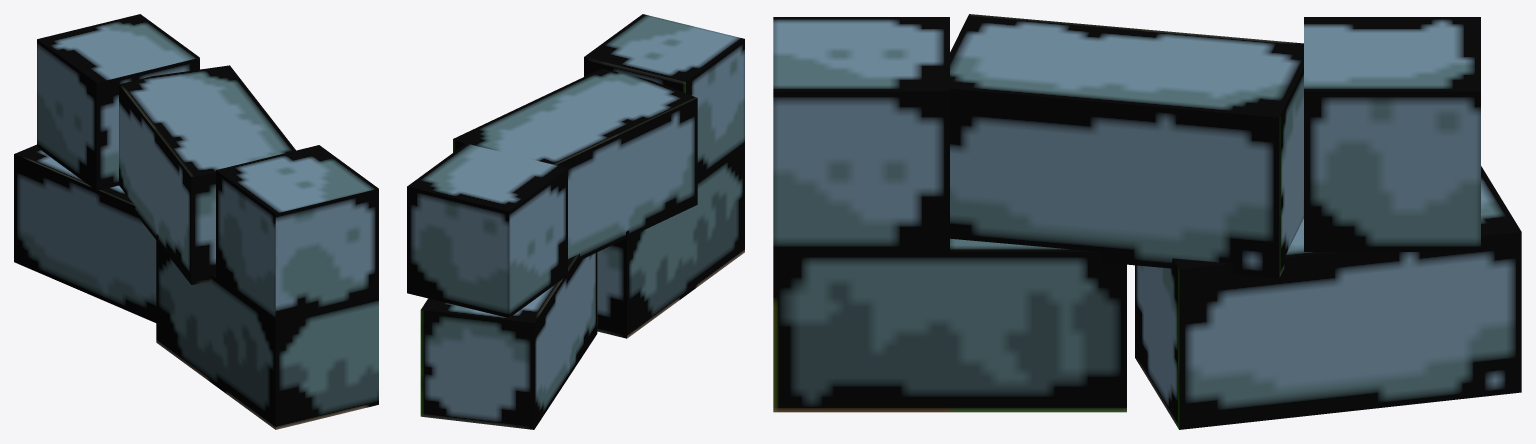
The model's file is deco_wallBroken_B.FBX.
3 views of the same model, side by side, from view 1: azimuth 30°, elevation 25°; view 2: azimuth 150°, elevation 25°; view 3: azimuth 270°, elevation 25° (orthographic). The views are drawn at different scales.
Parts seen in each view (by area): view 1: deco_wallBroken_B; view 2: deco_wallBroken_B; view 3: deco_wallBroken_B.
Boxes of the visible parts, left/top/right/bottom form: deco_wallBroken_B: left=14, top=14, right=378, bottom=429; deco_wallBroken_B: left=407, top=14, right=744, bottom=429; deco_wallBroken_B: left=773, top=14, right=1521, bottom=429.
Size of the model in its own units: 0.7346 by 1 by 2.12.
Materials: 1 (1 with a texture image).
